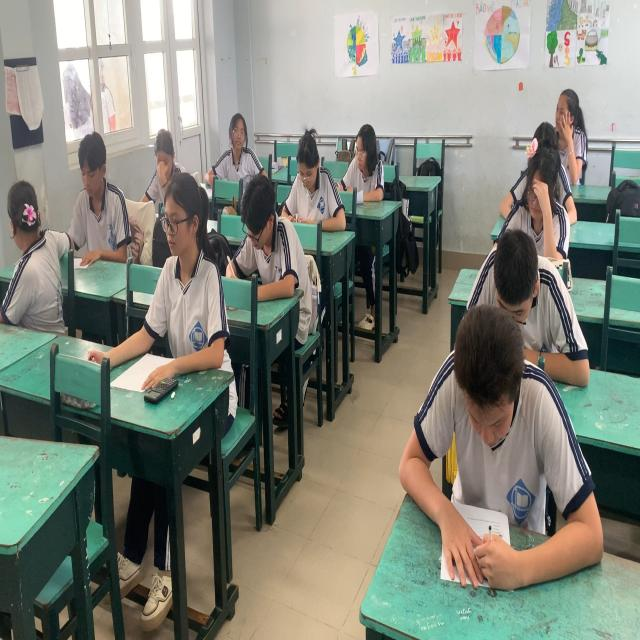cheating: (0, 174, 79, 370)
not_cheating: (427, 329, 522, 509), (470, 236, 569, 333), (63, 132, 132, 267), (154, 177, 214, 319), (508, 150, 560, 243), (141, 114, 188, 204), (227, 174, 276, 257), (344, 118, 390, 202), (274, 128, 322, 208), (217, 101, 256, 170), (546, 94, 584, 160)
